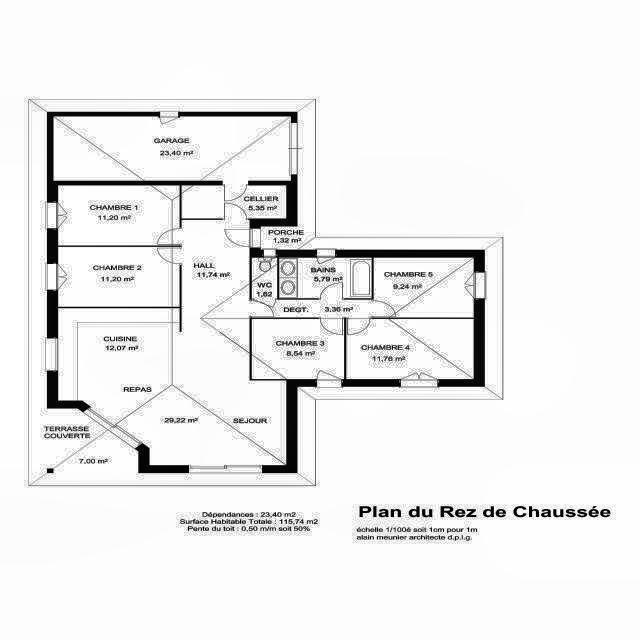room: (56, 306, 287, 467), (54, 116, 291, 181), (346, 319, 473, 379), (58, 185, 179, 246), (58, 247, 180, 307), (182, 220, 249, 318), (374, 258, 473, 318), (252, 319, 343, 379), (280, 258, 372, 298), (182, 186, 286, 219), (252, 300, 372, 317), (252, 258, 277, 298)
